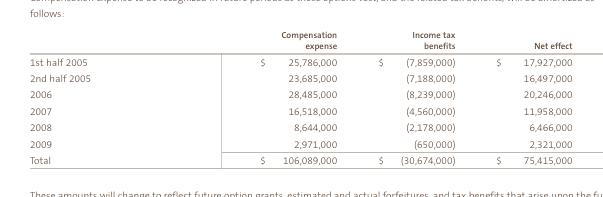table: (28, 29, 571, 166)
table column: (174, 29, 356, 166), (28, 29, 174, 166), (356, 29, 474, 166), (474, 29, 571, 166)
table column header: (28, 29, 571, 53)
table row: (28, 29, 571, 53), (28, 69, 571, 86), (28, 102, 571, 119), (28, 135, 571, 152), (28, 53, 571, 69), (28, 86, 571, 102), (28, 119, 571, 135), (28, 152, 571, 166)
